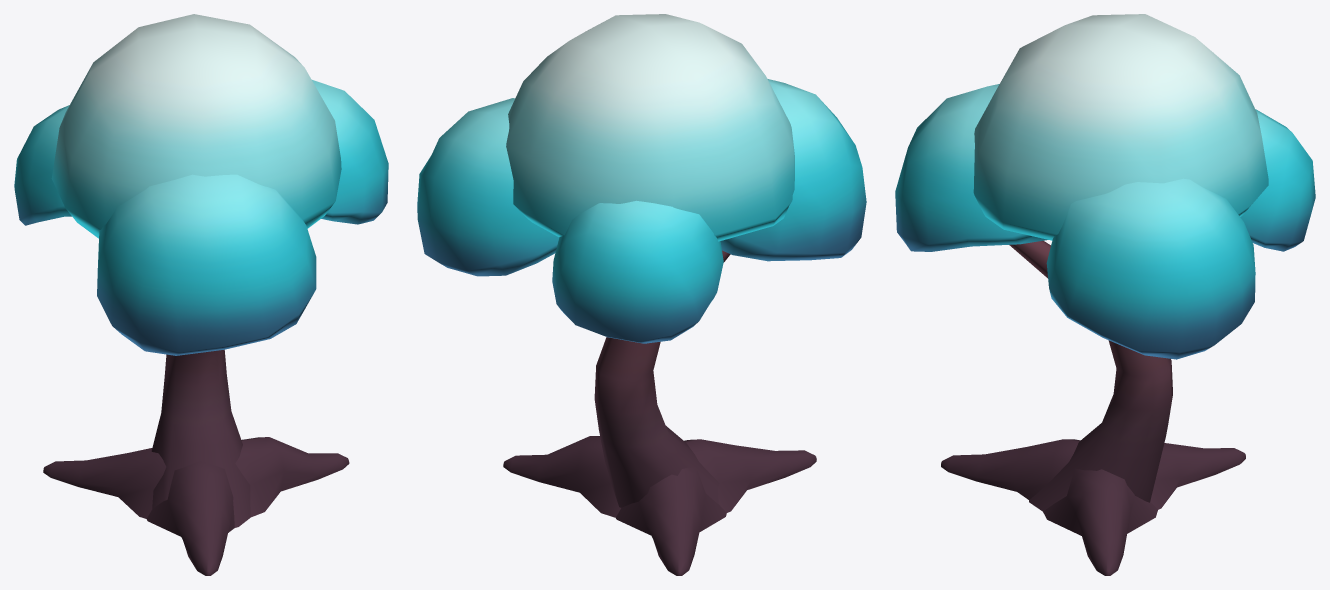
The model's file is tree_winter2.fbx.
The picture shows the model from 3 angles, left to right: view 1: azimuth 30°, elevation 25°; view 2: azimuth 150°, elevation 25°; view 3: azimuth 270°, elevation 25°; orthographic projection. The views are drawn at different scales.
Visible parts, largest first — view 1: model_0.004; view 2: model_0.004; view 3: model_0.004.
Part boxes in pixels (x1,y1,x2,y2): model_0.004: (14,14,388,575); model_0.004: (417,14,866,575); model_0.004: (895,14,1315,575).
Size of the model in its own units: 1816 by 2404 by 1922.
